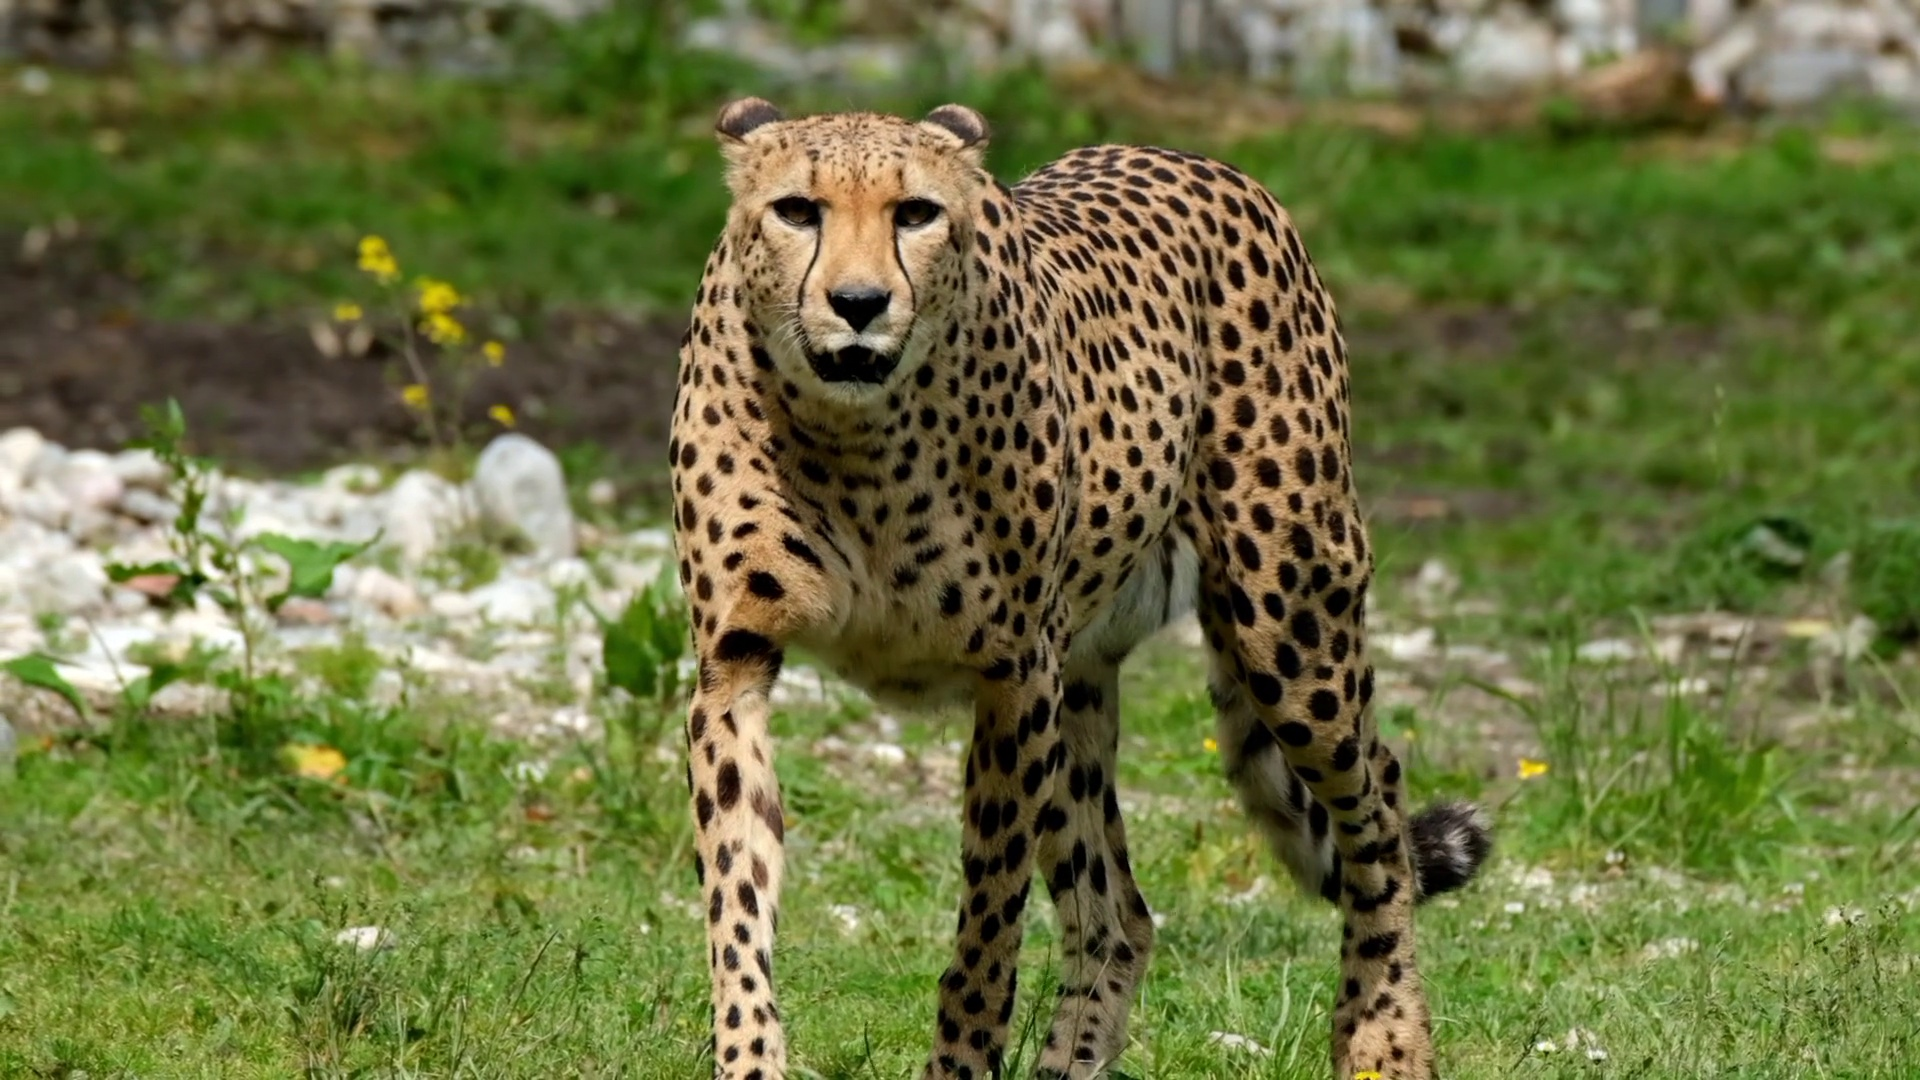Cheetah: (665, 91, 1494, 1080)
